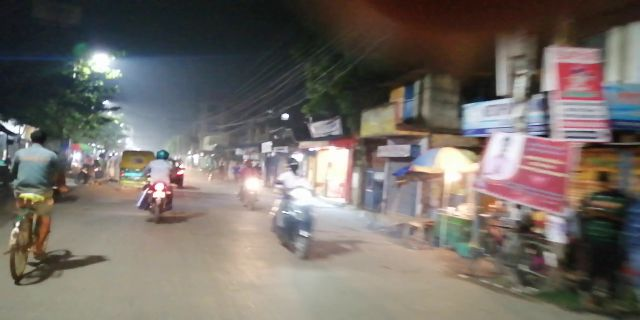Motorbike: (262, 155, 324, 260), (141, 143, 176, 219)
